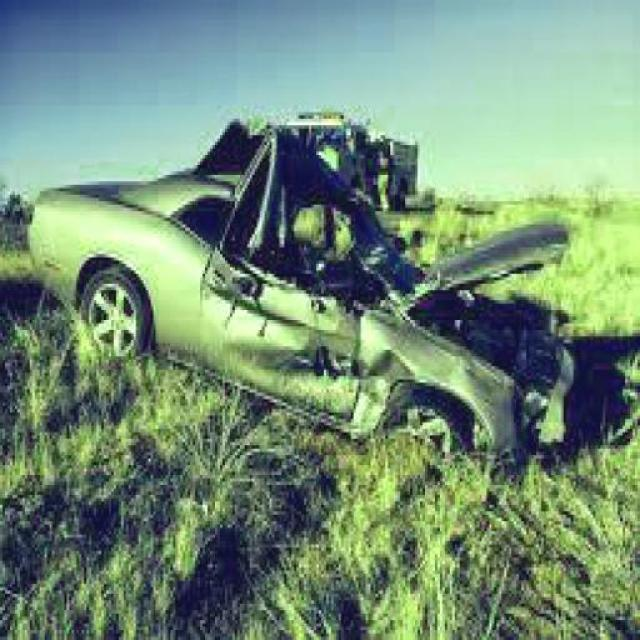Car-Damage: (202, 123, 577, 462)
